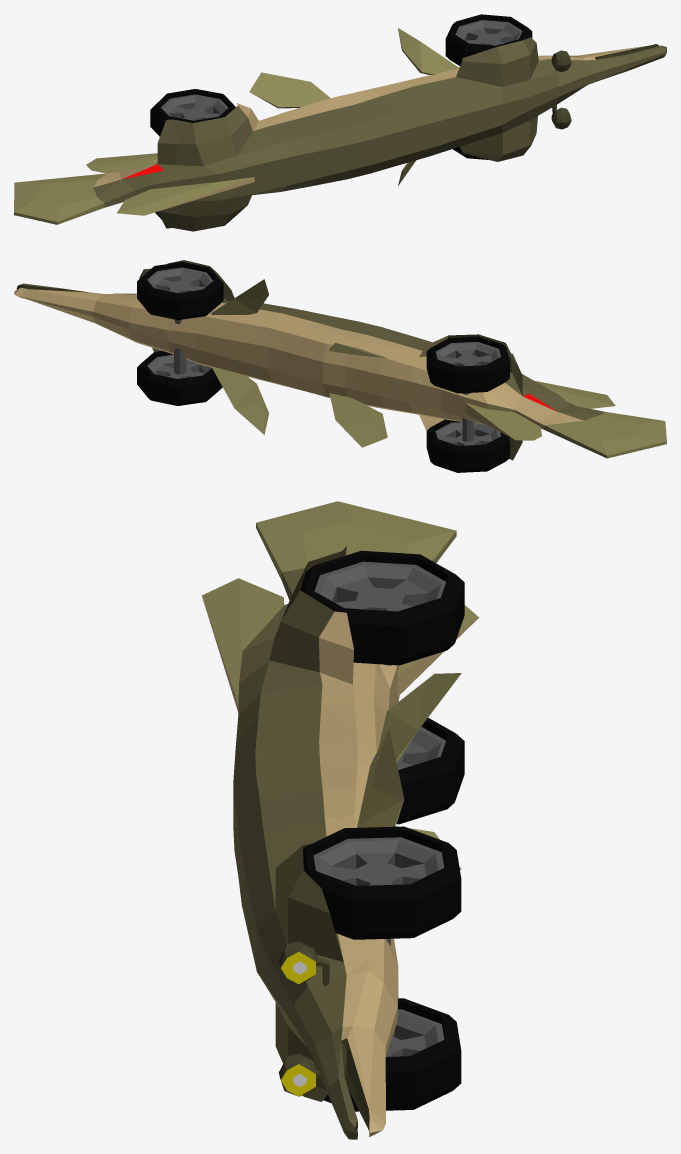
Rendered from GarDrip.obj.
The picture shows the model from 3 angles, top to bottom: view 1: azimuth 30°, elevation 25°; view 2: azimuth 150°, elevation 25°; view 3: azimuth 270°, elevation 25°; orthographic projection. The views are drawn at different scales.
Parts seen in each view (by area): view 1: GarDrip_0; view 2: GarDrip_0; view 3: GarDrip_0.
Boxes of the visible parts, x1,y1,x2,y2 form: GarDrip_0: (14,14,666,231); GarDrip_0: (14,260,666,472); GarDrip_0: (201,501,478,1139).
Bounding box in the file's own units: 0.9018 × 0.2085 × 0.1679.
Materials: 1 (1 with a texture image).
